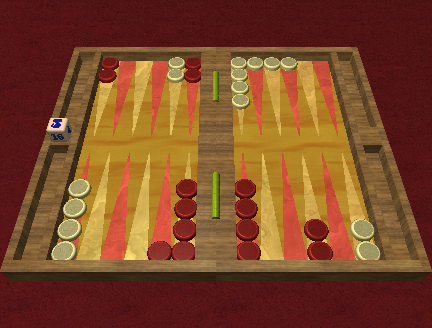checker: (303, 218, 329, 241), (349, 218, 375, 239), (306, 241, 333, 261), (235, 218, 259, 240), (173, 219, 197, 241), (146, 240, 173, 259), (234, 197, 258, 218), (175, 178, 199, 199), (63, 197, 87, 218), (57, 218, 81, 239), (235, 240, 261, 259), (355, 240, 381, 259), (51, 240, 77, 259), (173, 198, 198, 217), (233, 178, 256, 198), (68, 178, 91, 197), (173, 240, 194, 260), (231, 92, 250, 107), (97, 69, 117, 83), (100, 56, 120, 70), (264, 55, 280, 71), (231, 80, 250, 93), (230, 67, 249, 80), (185, 68, 201, 82), (281, 57, 297, 71), (247, 57, 264, 70), (167, 68, 185, 80), (168, 56, 186, 68), (229, 56, 247, 67), (185, 55, 200, 68)
